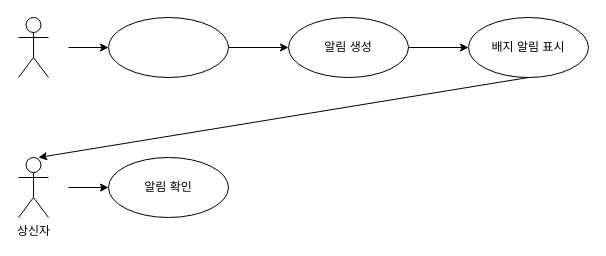
Image size: 606x256. Some labels were removed from this diagram. The centre of each missing label's shape, as x and y in pixels:
"결재 답변" belongs at (168,47).
"결재자" belongs at (33,47).
